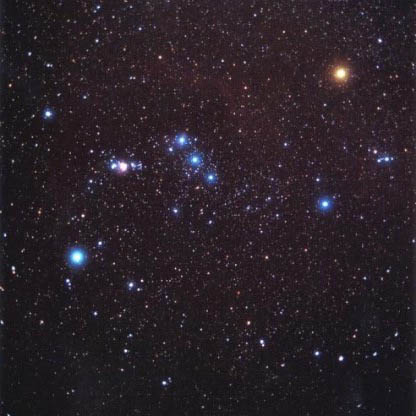Orion: (61, 243, 93, 280), (310, 189, 340, 219), (328, 60, 356, 89), (193, 167, 220, 194), (167, 125, 191, 150), (180, 150, 205, 169), (40, 103, 57, 124)
